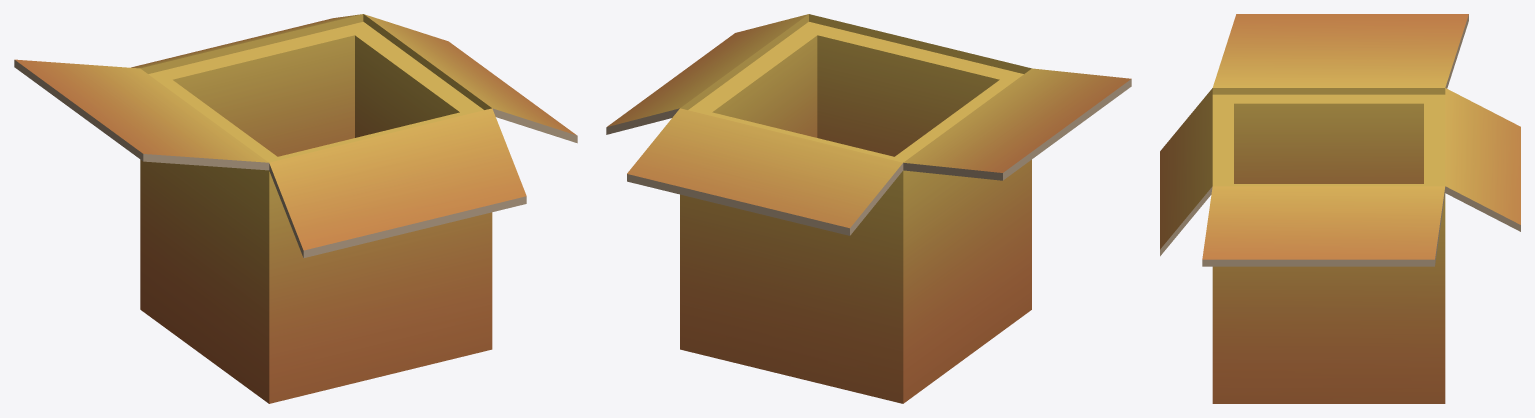
The model's file is sp_box_books_a.fbx.
The picture shows the model from 3 angles, left to right: view 1: azimuth 30°, elevation 25°; view 2: azimuth 150°, elevation 25°; view 3: azimuth 270°, elevation 25°; orthographic projection. The views are drawn at different scales.
Parts seen in each view (by area): view 1: sp_box_books_a; view 2: sp_box_books_a; view 3: sp_box_books_a.
Part boxes in pixels (left/top/right/bottom): sp_box_books_a: left=14, top=14, right=577, bottom=403; sp_box_books_a: left=606, top=14, right=1131, bottom=403; sp_box_books_a: left=1160, top=14, right=1520, bottom=403.
Bounding box in the file's own units: 61.18 × 37.72 × 51.
